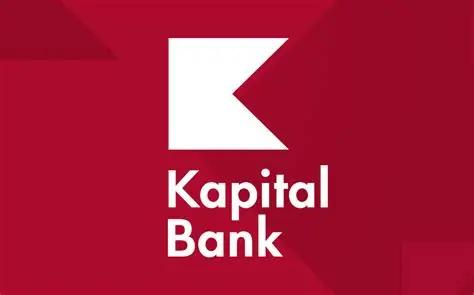Kapital Bank: (166, 36, 293, 152)
